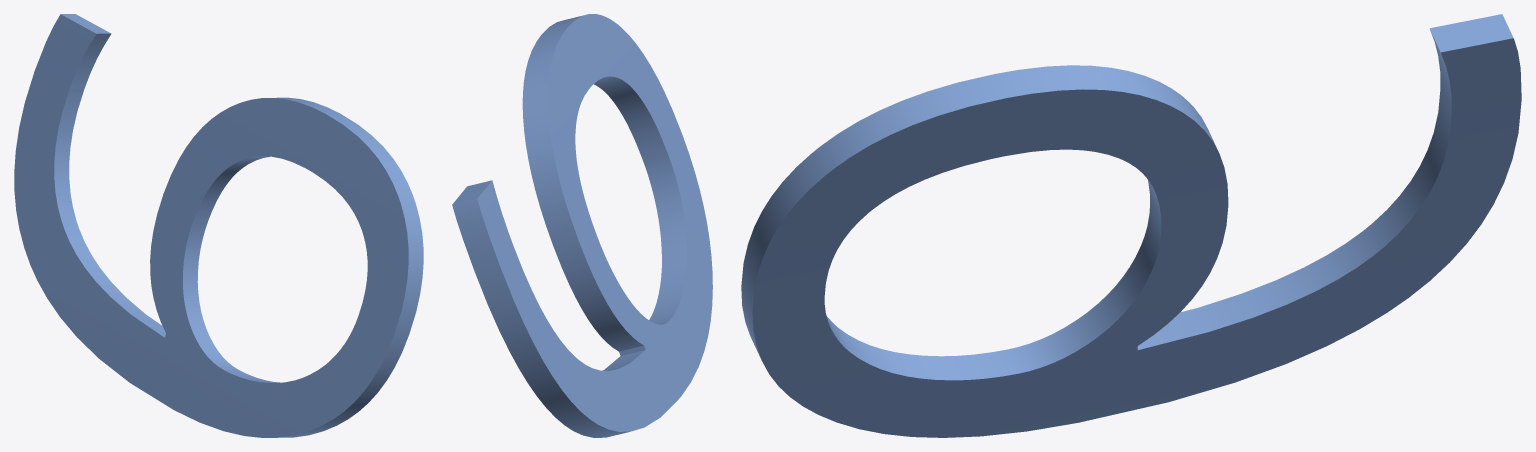
File: New_Number_6.gltf
3 views of the same model, side by side, from view 1: azimuth 30°, elevation 25°; view 2: azimuth 150°, elevation 25°; view 3: azimuth 270°, elevation 25° (orthographic). The views are drawn at different scales.
Parts seen in each view (by area): view 1: Part 717; view 2: Part 717; view 3: Part 717.
Part boxes in pixels (bbox=[...]): Part 717: bbox=[14, 14, 423, 437]; Part 717: bbox=[452, 14, 712, 437]; Part 717: bbox=[741, 14, 1521, 437].
Bounding box in the file's own units: 0.0023 × 0.00337 × 0.00554.
